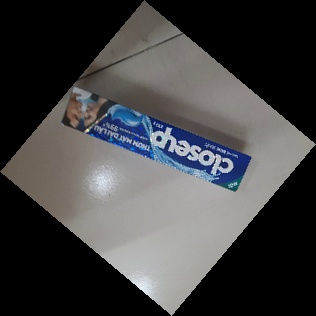CloseUp Tuyet: (60, 86, 253, 197)
